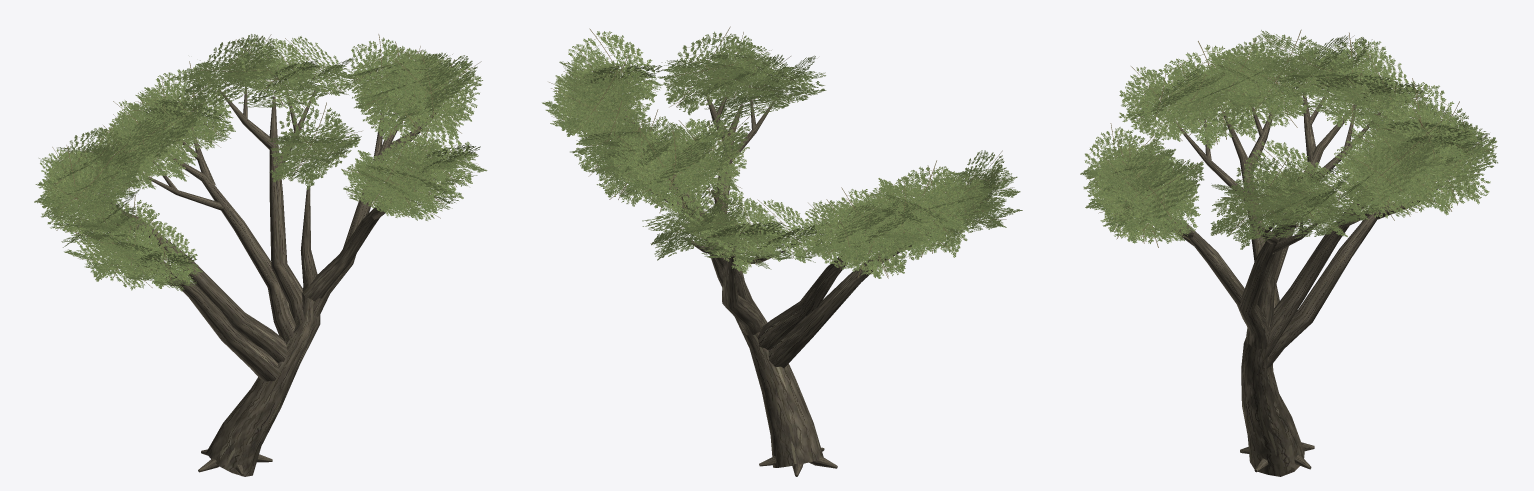
The model's file is acacia-2.glb.
The picture shows the model from 3 angles, left to right: view 1: azimuth 30°, elevation 25°; view 2: azimuth 150°, elevation 25°; view 3: azimuth 270°, elevation 25°; orthographic projection. The views are drawn at different scales.
Visible parts, largest first — view 1: 平顶金合欢 · 斜干错层冠 LOD0; view 2: 平顶金合欢 · 斜干错层冠 LOD0; view 3: 平顶金合欢 · 斜干错层冠 LOD0.
Part boxes in pixels (left/top/right/bottom): 平顶金合欢 · 斜干错层冠 LOD0: left=34, top=34, right=487, bottom=476; 平顶金合欢 · 斜干错层冠 LOD0: left=542, top=26, right=1022, bottom=476; 平顶金合欢 · 斜干错层冠 LOD0: left=1080, top=29, right=1497, bottom=476.
Bounding box in the file's own units: 9 × 7 × 7.17.
2 materials, 2 textured.
